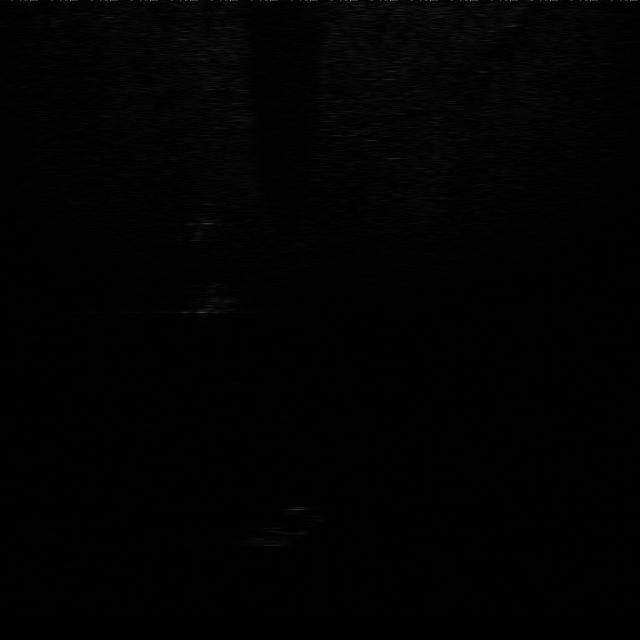ball: (188, 198, 228, 230)
circle cage: (178, 277, 242, 317)
tyre: (234, 491, 328, 549)
